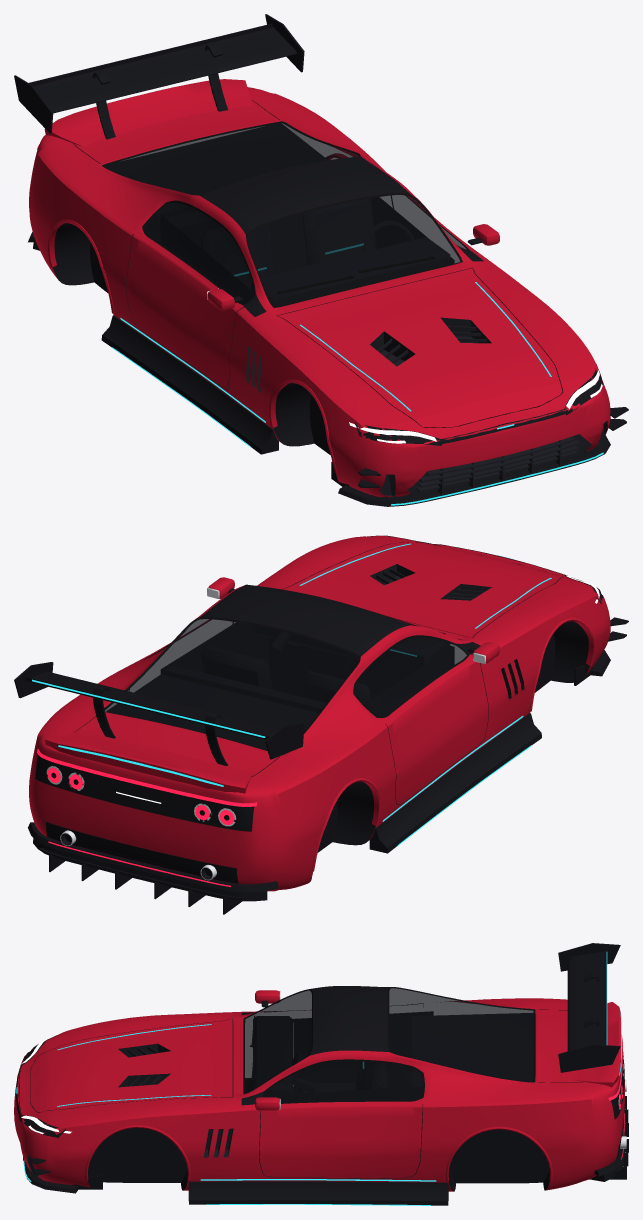
File: car_mizu.glb
3 renders of one model, top to bottom at view 1: azimuth 30°, elevation 25°; view 2: azimuth 150°, elevation 25°; view 3: azimuth 270°, elevation 25°, orthographic. The views are drawn at different scales.
Visible parts, largest first — view 1: body, spoiler_2_parts, kit_1_parts, spoiler_1_parts; view 2: body, kit_1_parts, spoiler_2_parts, spoiler_1_parts, kit_0_parts; view 3: body, kit_1_parts, spoiler_2_parts, spoiler_1_parts.
Boxes of the visible parts, bbox=[...] form: body: bbox=[29, 87, 610, 497]; spoiler_2_parts: bbox=[14, 14, 304, 139]; kit_1_parts: bbox=[28, 217, 628, 506]; spoiler_1_parts: bbox=[44, 79, 253, 147]; body: bbox=[29, 535, 610, 891]; kit_1_parts: bbox=[28, 617, 628, 914]; spoiler_2_parts: bbox=[14, 662, 304, 765]; spoiler_1_parts: bbox=[44, 729, 253, 793]; kit_0_parts: bbox=[33, 838, 267, 901]; body: bbox=[14, 986, 626, 1191]; kit_1_parts: bbox=[23, 1078, 628, 1205]; spoiler_2_parts: bbox=[558, 943, 620, 1072]; spoiler_1_parts: bbox=[572, 1002, 621, 1087].
Size of the model in its own units: 2.04 by 1.27 by 4.59.
